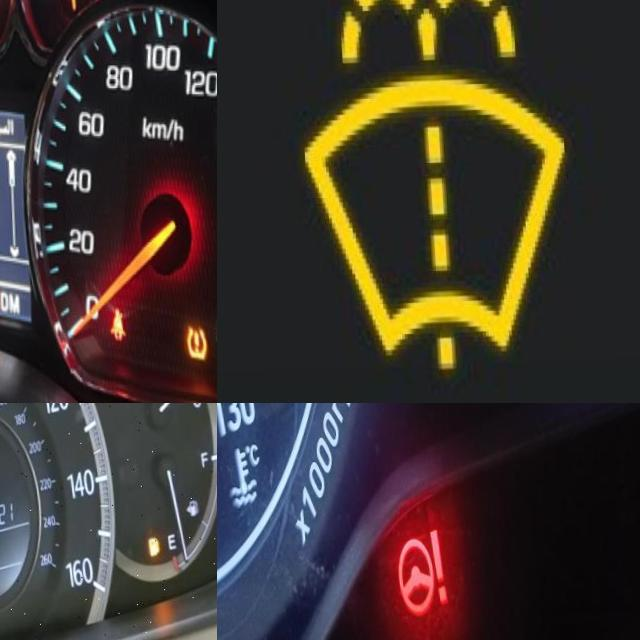Electronic Power Steering: (381, 516, 449, 640)
Seat Belt: (101, 305, 124, 351)
Washer Fluid: (291, 0, 573, 380)
